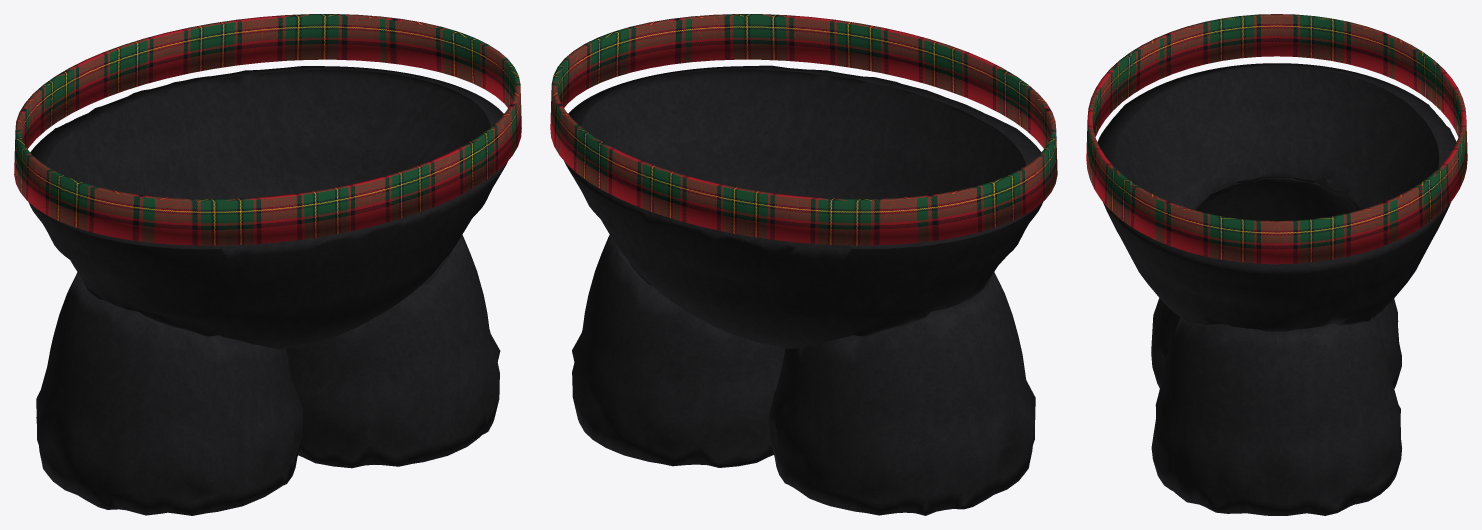
Rendered from baggy5.fbx.
The picture shows the model from 3 angles, left to right: view 1: azimuth 30°, elevation 25°; view 2: azimuth 150°, elevation 25°; view 3: azimuth 270°, elevation 25°; orthographic projection. The views are drawn at different scales.
Parts seen in each view (by area): view 1: baggy5; view 2: baggy5; view 3: baggy5.
Part boxes in pixels (x1,y1,x2,y2): baggy5: [14, 14, 521, 515]; baggy5: [550, 14, 1057, 515]; baggy5: [1086, 14, 1467, 515].
Size of the model in its own units: 0.8281 by 0.5657 by 0.6356.
2 materials, 2 textured.
